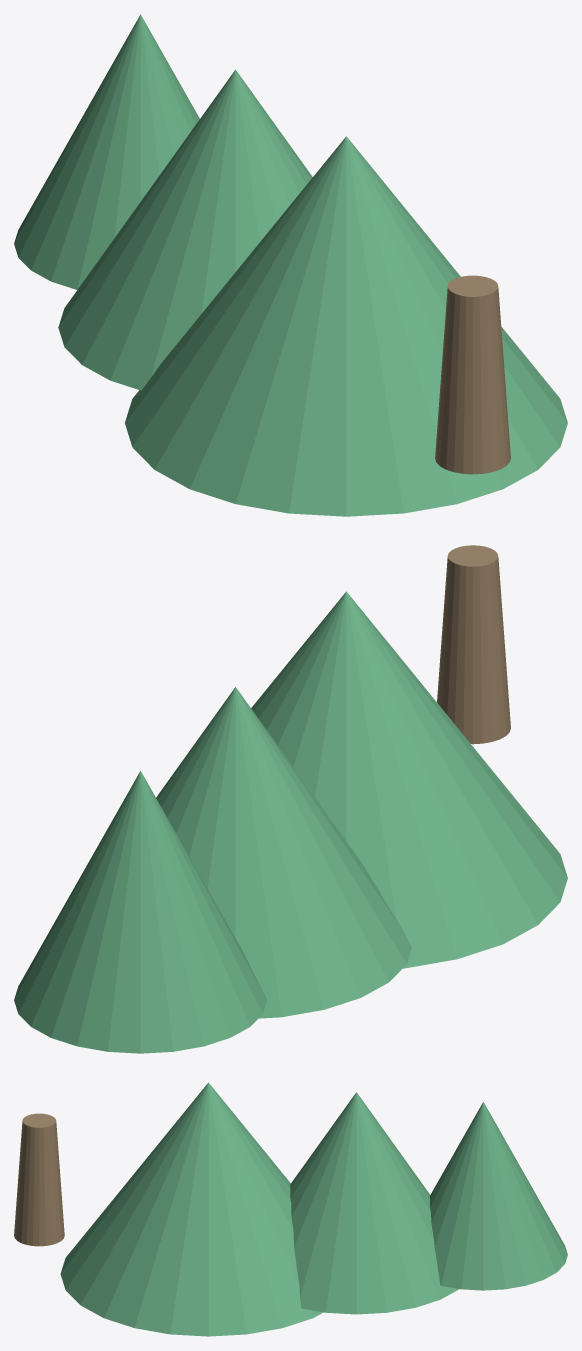
Rendered from prop_pine.glb.
3 renders of one model, top to bottom at view 1: azimuth 30°, elevation 25°; view 2: azimuth 150°, elevation 25°; view 3: azimuth 270°, elevation 25°, orthographic. The views are drawn at different scales.
Visible parts, largest first — view 1: Cone.001, Cone.002, Cone.003, Cone; view 2: Cone.001, Cone.002, Cone.003, Cone; view 3: Cone.001, Cone.002, Cone.003, Cone.
Part boxes in pixels (left/top/right/bottom): Cone.001: left=125, top=136, right=567, bottom=516; Cone.002: left=58, top=69, right=312, bottom=390; Cone.003: left=14, top=14, right=199, bottom=289; Cone: left=435, top=275, right=510, bottom=474; Cone.001: left=251, top=591, right=567, bottom=968; Cone.002: left=156, top=687, right=411, bottom=1018; Cone.003: left=14, top=771, right=266, bottom=1053; Cone: left=437, top=545, right=510, bottom=744; Cone.001: left=60, top=1082, right=323, bottom=1336; Cone.002: left=290, top=1092, right=458, bottom=1314; Cone.003: left=430, top=1102, right=567, bottom=1290; Cone: left=14, top=1113, right=64, bottom=1246.
Bounding box in the file's own units: 0.7 × 0.5 × 1.31.
